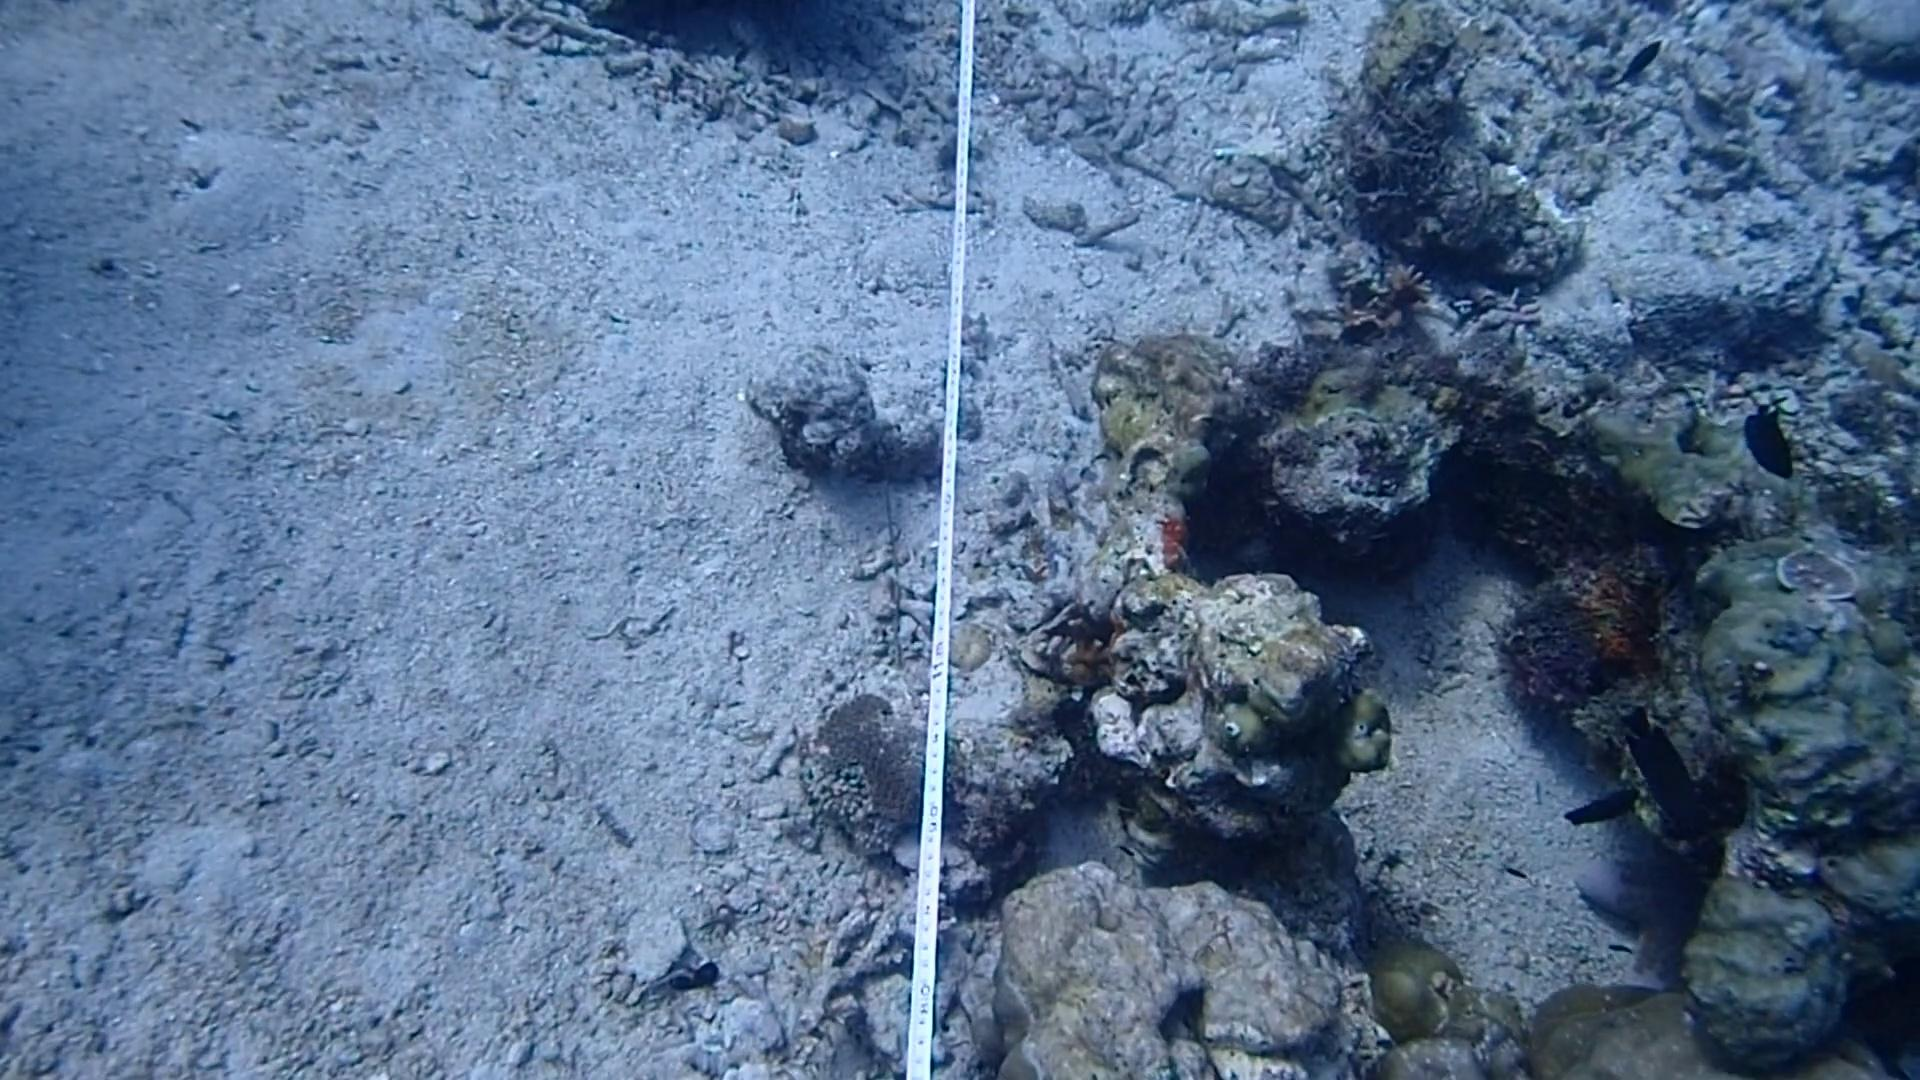Dark Fish: (1726, 396, 1807, 496), (1593, 28, 1683, 107), (1549, 779, 1648, 841)
